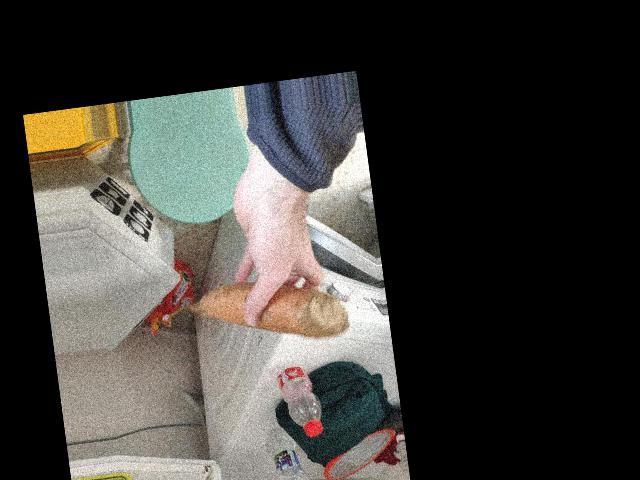sweet_potato: (183, 280, 347, 346)
